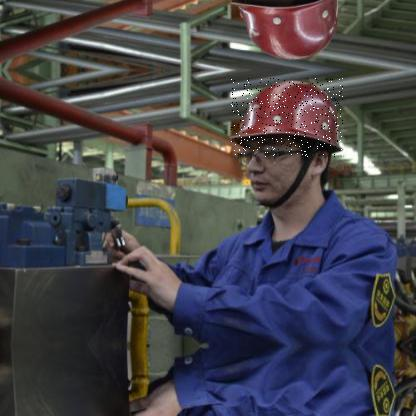safetyhelmet: (231, 78, 344, 158)
